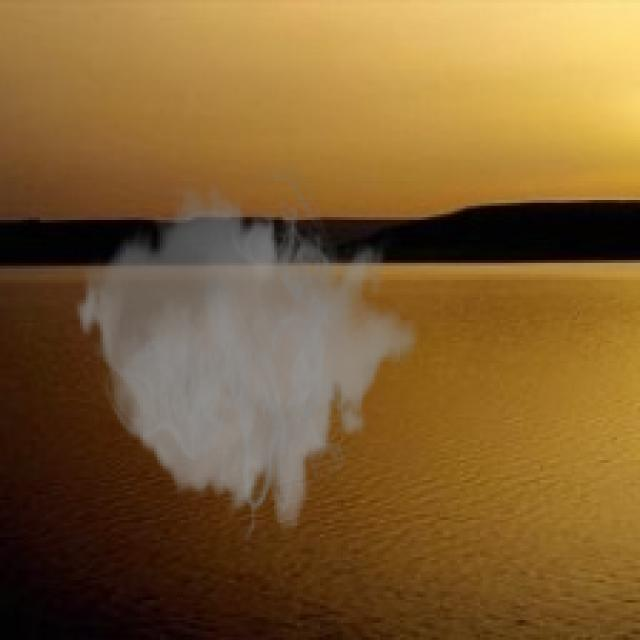smoke: (74, 154, 420, 546)
